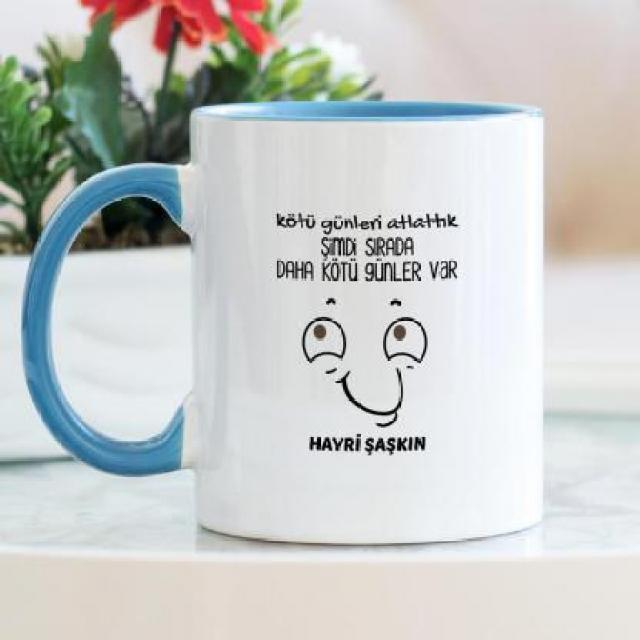taza: (21, 102, 546, 545)
